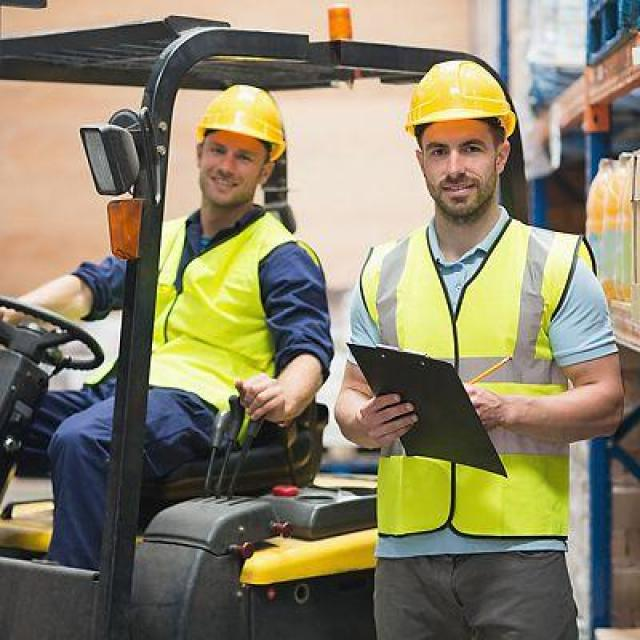Reflective-Jacket: (355, 219, 586, 547), (90, 205, 332, 422)
Safety-Helmet: (397, 53, 518, 141), (184, 76, 301, 162)
